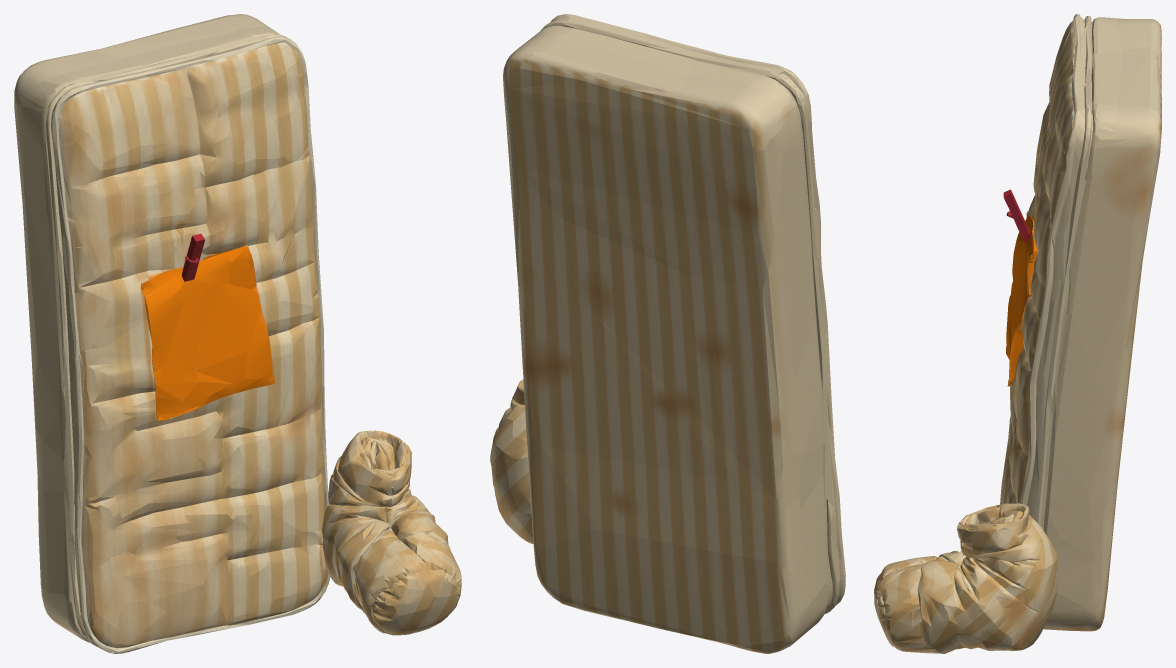
The picture shows the model from 3 angles, left to right: view 1: azimuth 30°, elevation 25°; view 2: azimuth 150°, elevation 25°; view 3: azimuth 270°, elevation 25°; orthographic projection. The views are drawn at different scales.
Bounding box in the file's own units: 1.21 × 1.9 × 0.9429.
Materials: 1 (1 with a texture image).
